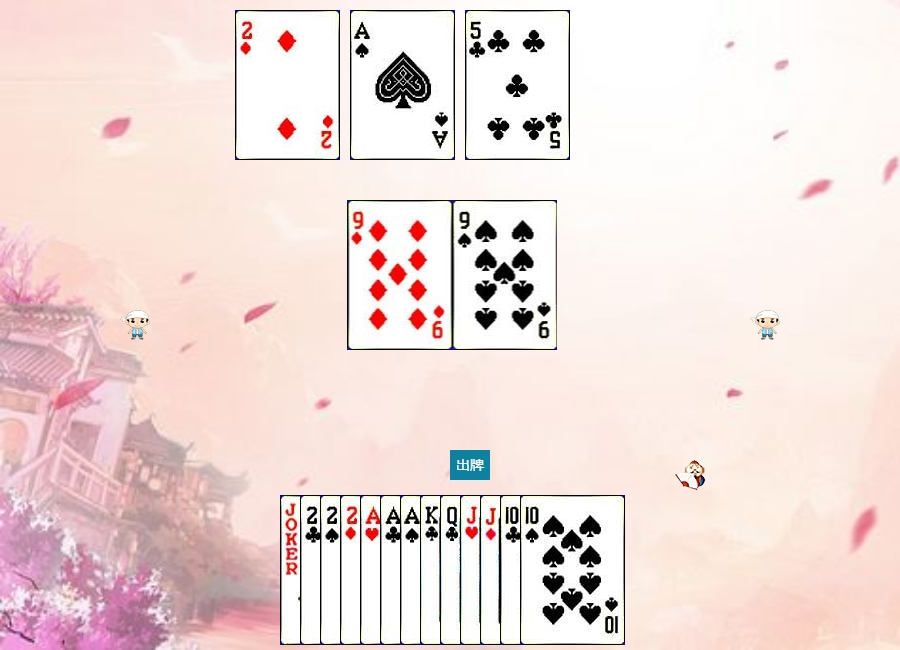10~2: (500, 495, 605, 645)
10~4: (520, 495, 625, 645)
11~1: (480, 495, 585, 645)
11~3: (460, 495, 565, 645)
12~2: (440, 495, 545, 645)
13~2: (420, 495, 525, 645)
14~2: (380, 495, 485, 645)
14~3: (360, 495, 465, 645)
14~4: (350, 10, 455, 160), (400, 495, 505, 645)
15~1: (235, 10, 340, 160), (340, 495, 445, 645)
15~2: (300, 495, 405, 645)
15~4: (320, 495, 425, 645)
18~4: (280, 495, 385, 645)
5~2: (465, 10, 570, 160)
9~1: (348, 200, 453, 350)
9~4: (453, 200, 558, 350)
